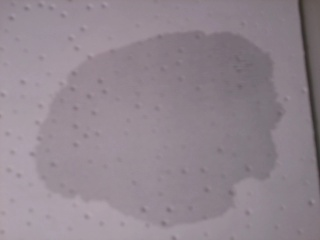Water_detected: (63, 60, 225, 200)
